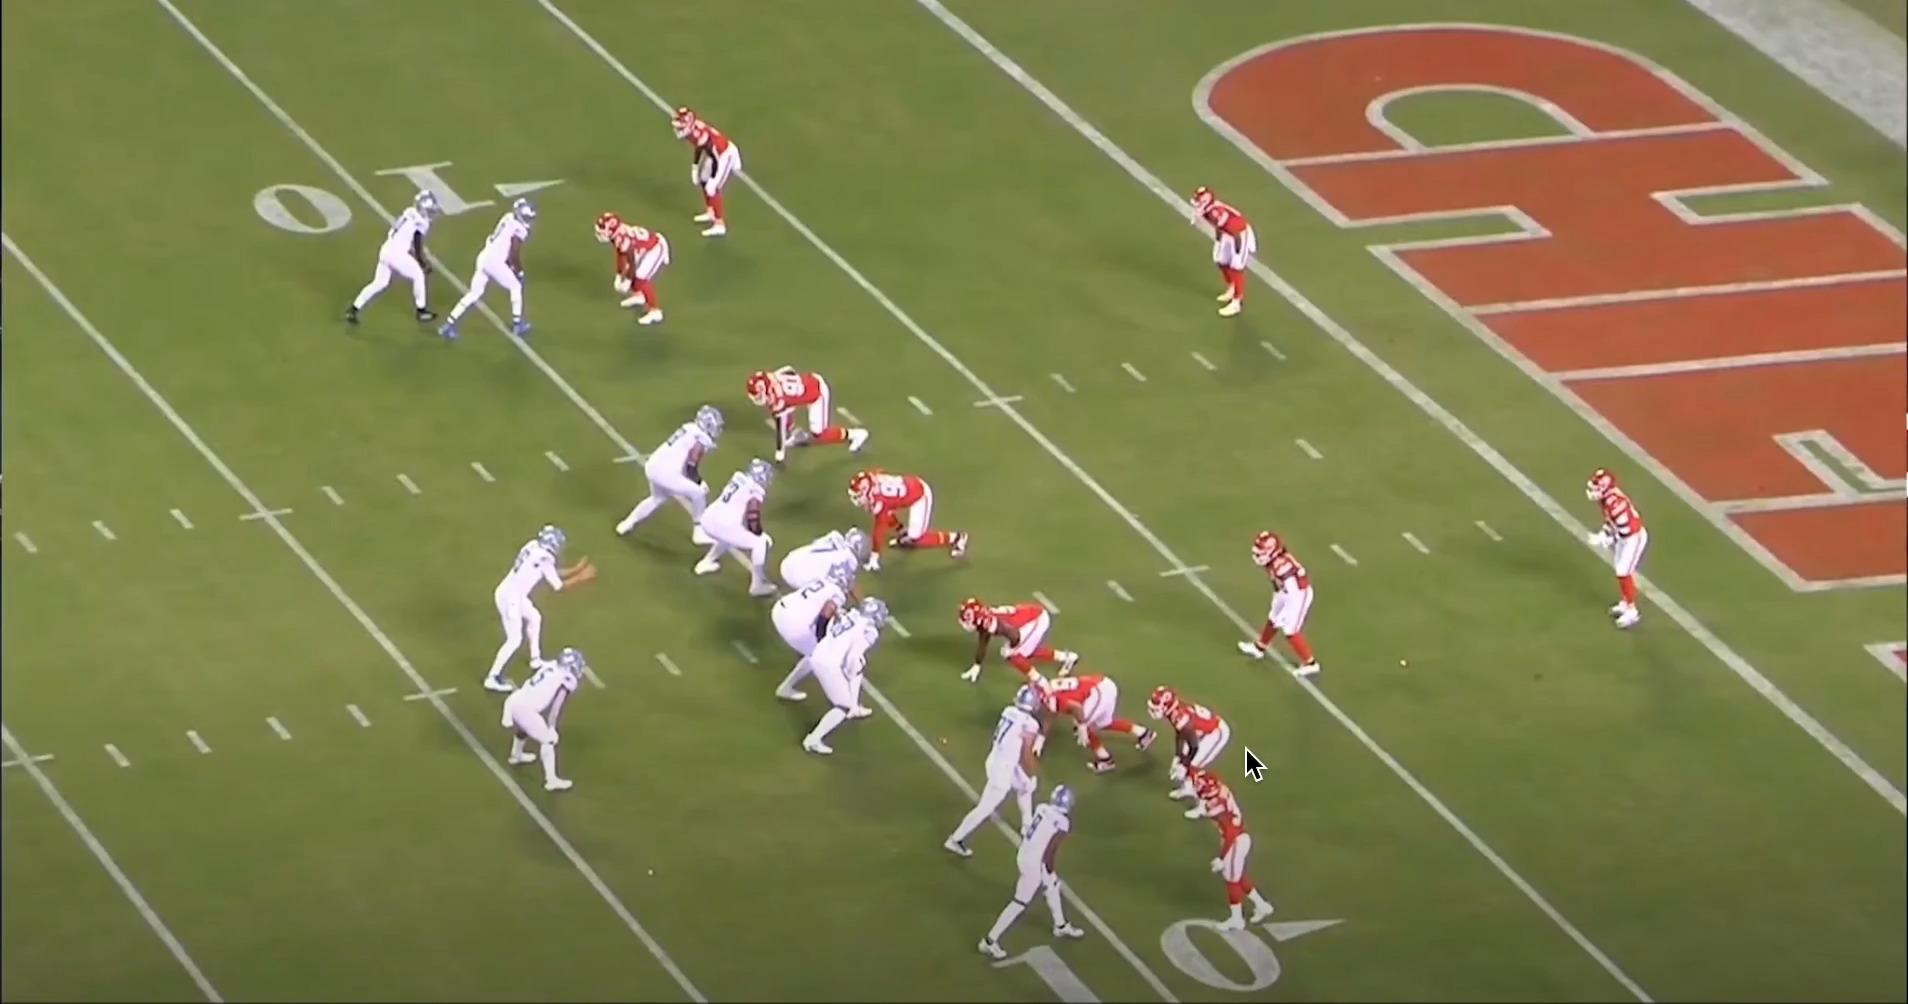defense: (1146, 689, 1275, 824), (1025, 667, 1160, 776), (1190, 772, 1273, 936), (1239, 525, 1326, 679), (853, 472, 979, 571), (745, 368, 871, 467), (954, 598, 1079, 690), (1581, 470, 1649, 638), (666, 105, 743, 243), (1182, 187, 1256, 325), (597, 207, 676, 327)
oline: (615, 407, 728, 550), (798, 599, 891, 761), (772, 563, 859, 703), (699, 459, 784, 595), (777, 530, 872, 617)
qb: (490, 523, 586, 695)
skill: (986, 785, 1099, 967), (948, 680, 1056, 863), (336, 189, 443, 333), (438, 198, 540, 348), (509, 639, 598, 790)
